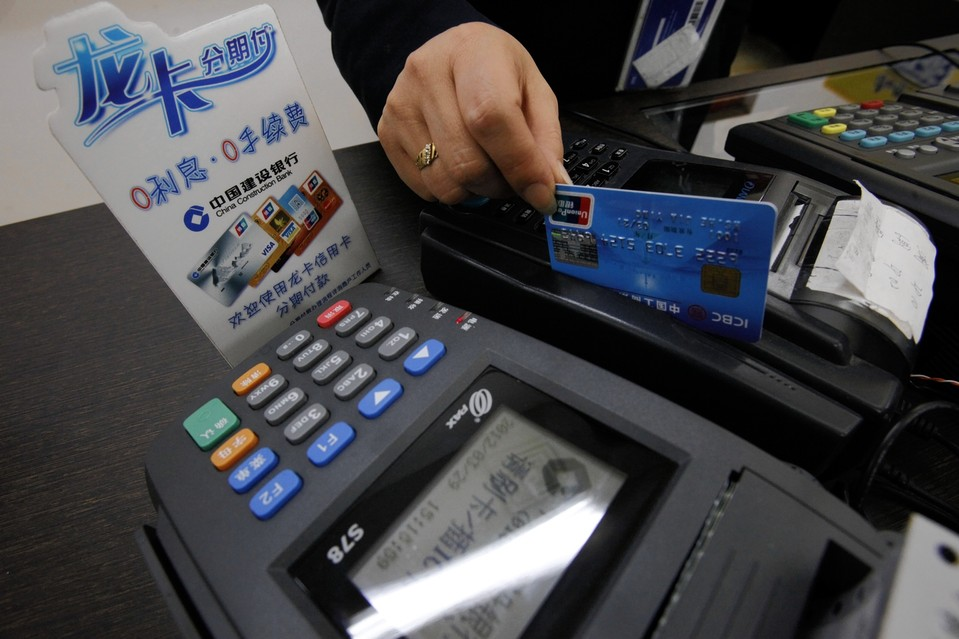tarjeta: (540, 183, 781, 346)
